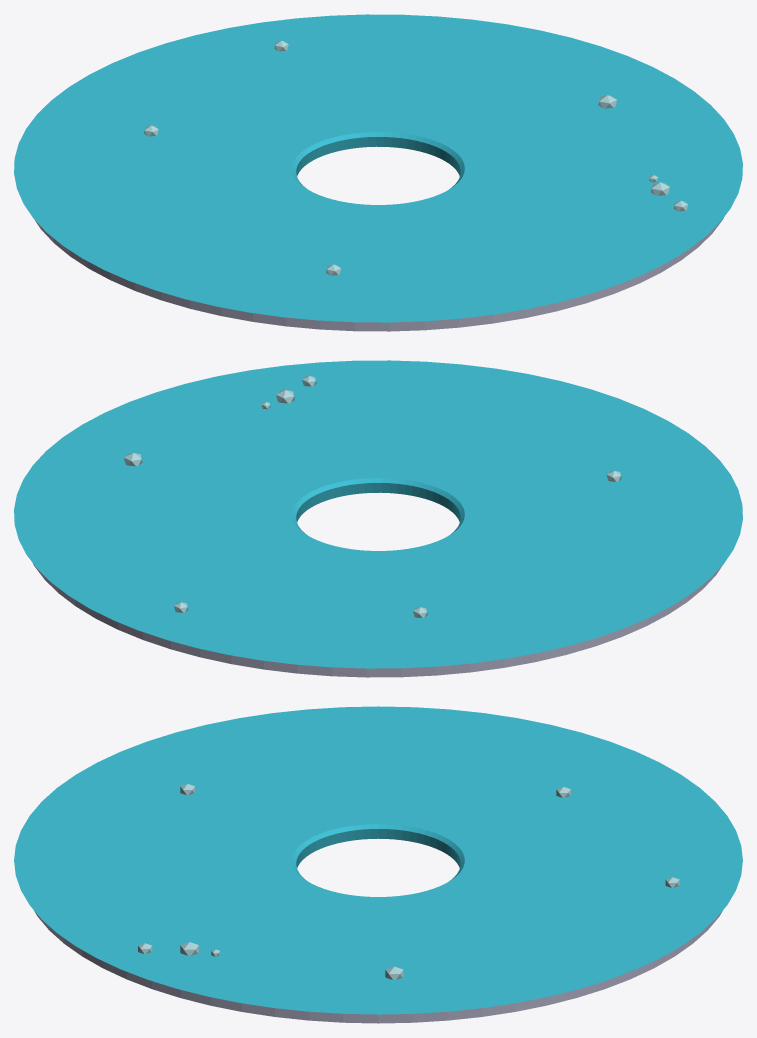
The model's file is goo_jar_deck_2@space.fbx.
3 renders of one model, top to bottom at view 1: azimuth 30°, elevation 25°; view 2: azimuth 150°, elevation 25°; view 3: azimuth 270°, elevation 25°, orthographic.
Parts seen in each view (by area): view 1: goo_jar_deck_2; view 2: goo_jar_deck_2; view 3: goo_jar_deck_2.
Part boxes in pixels (x1,y1,x2,y2): goo_jar_deck_2: [14, 14, 742, 331]; goo_jar_deck_2: [14, 360, 742, 677]; goo_jar_deck_2: [14, 706, 742, 1023].
Size of the model in its own units: 53.2 by 1.84 by 53.2.
